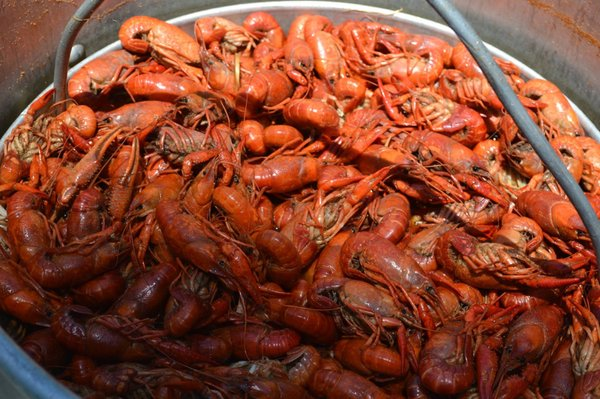pizza: (5, 10, 599, 389)
